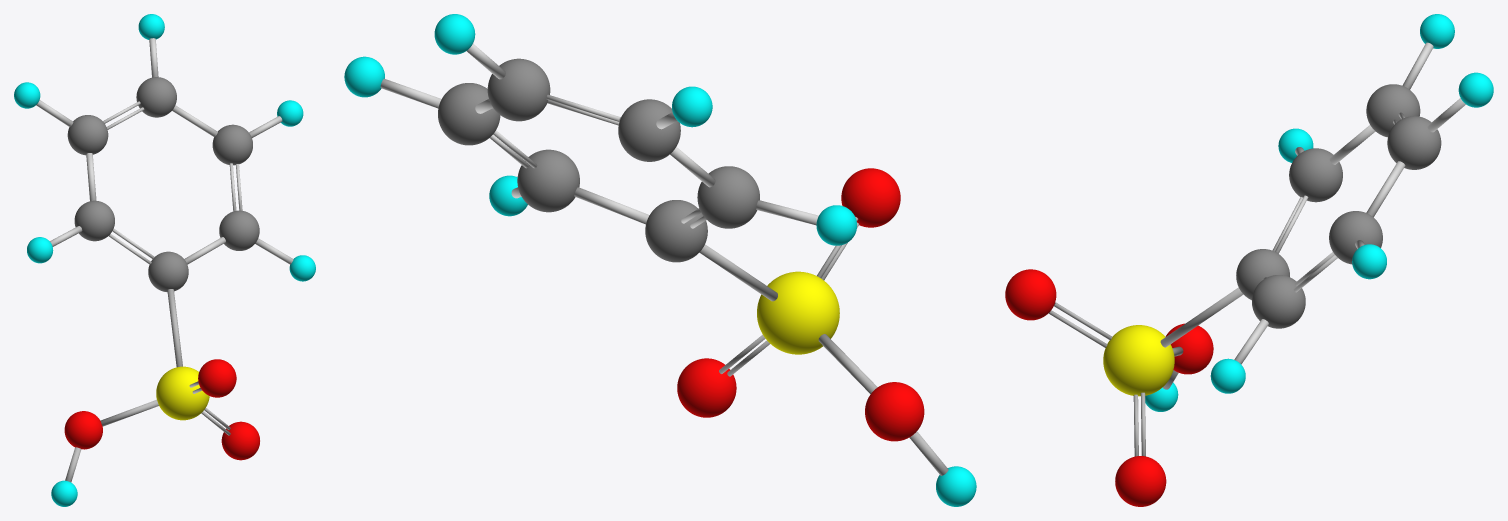
Rendered from benzenesulfonic acid.glb.
3 views of the same model, side by side, from view 1: azimuth 30°, elevation 25°; view 2: azimuth 150°, elevation 25°; view 3: azimuth 270°, elevation 25° (orthographic). The views are drawn at different scales.
Visible parts, largest first — view 1: CMAtom_0; view 2: CMAtom_0; view 3: CMAtom_0.
Part boxes in pixels (x1=…): CMAtom_0: x1=14, y1=14, x2=315, y2=506; CMAtom_0: x1=344, y1=14, x2=976, y2=506; CMAtom_0: x1=1005, y1=14, x2=1493, y2=506.
Bounding box in the file's own units: 0.5738 × 0.5923 × 0.5582.
